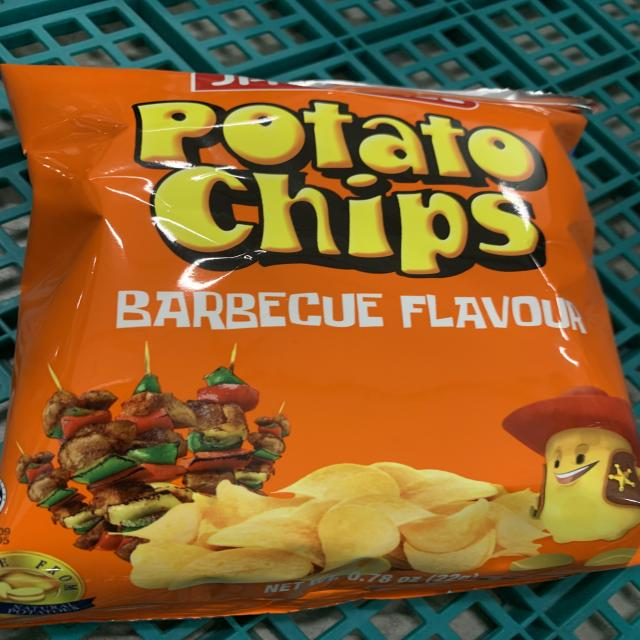object_name: (36, 76, 593, 583)
